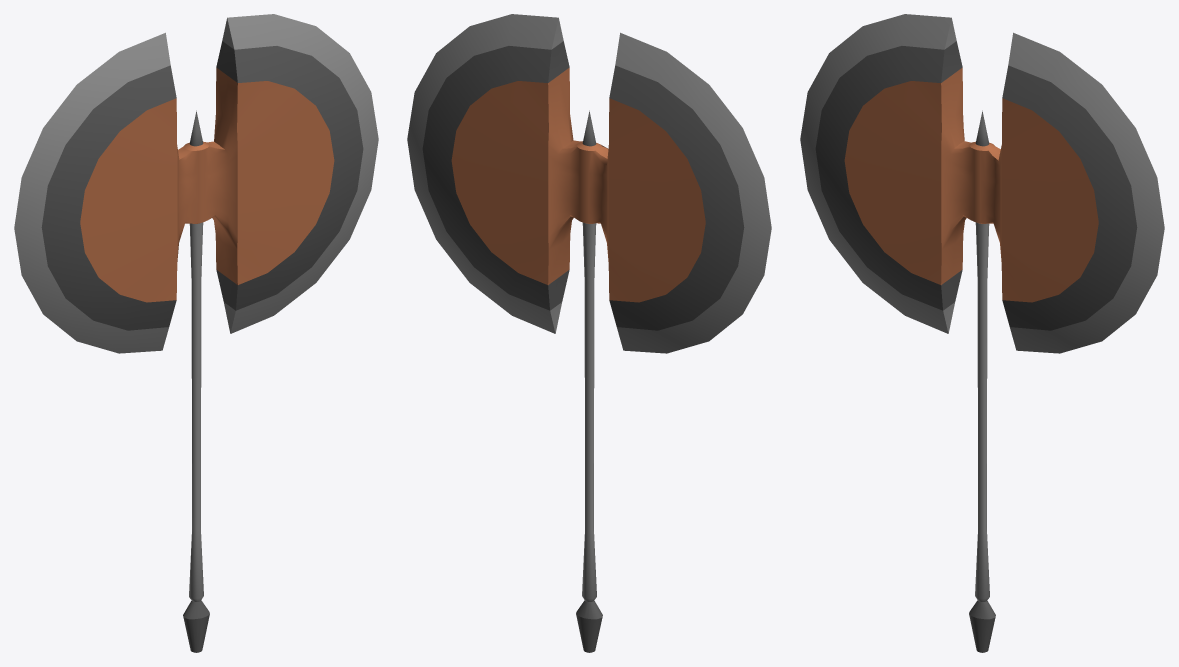
Rendered from GreatAxeScaled.fbx.
3 views of the same model, side by side, from view 1: azimuth 30°, elevation 25°; view 2: azimuth 150°, elevation 25°; view 3: azimuth 330°, elevation 25° (orthographic).
Parts seen in each view (by area): view 1: Greataxe; view 2: Greataxe; view 3: Greataxe.
Boxes of the visible parts, x1=… form: Greataxe: x1=14, y1=14, x2=378, y2=652; Greataxe: x1=407, y1=14, x2=771, y2=652; Greataxe: x1=800, y1=14, x2=1164, y2=652.
Size of the model in its own units: 0.2523 by 0.4152 by 0.0269.
